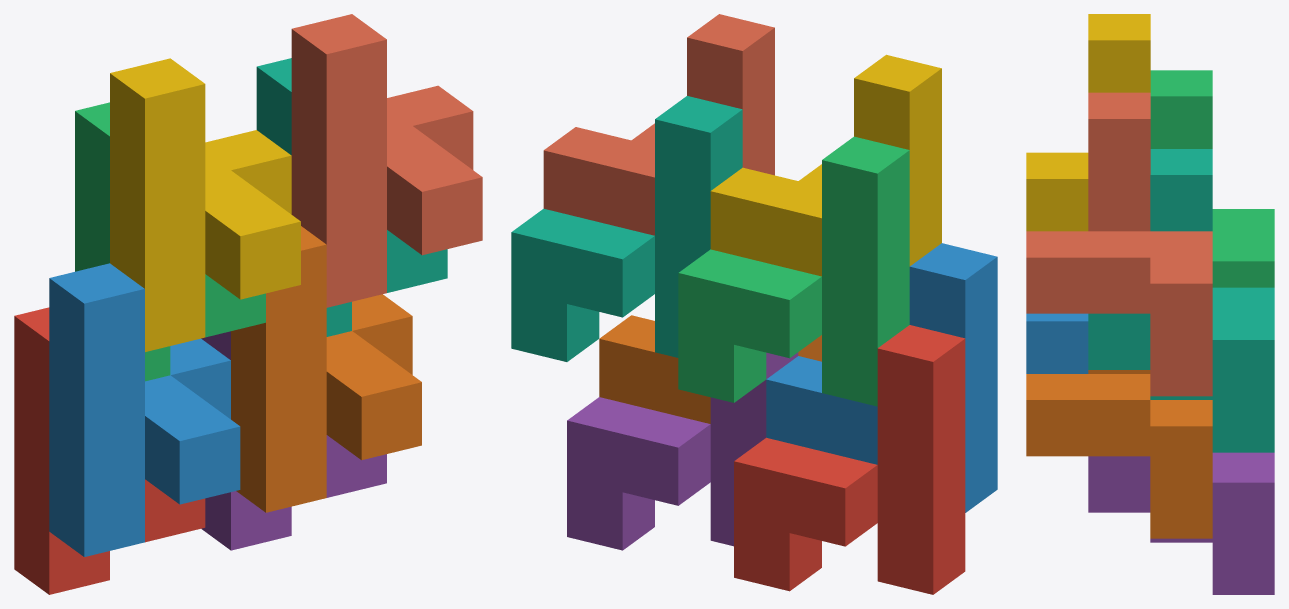
The model's file is tiling.obj.
The picture shows the model from 3 angles, left to right: view 1: azimuth 30°, elevation 25°; view 2: azimuth 150°, elevation 25°; view 3: azimuth 270°, elevation 25°; orthographic projection. The views are drawn at different scales.
Visible parts, largest first — view 1: copy_1_domain_2, copy_1_domain_8, copy_1_domain_4, copy_1_domain_6, copy_1_domain_1, copy_1_domain_3, copy_1_domain_5, copy_1_domain_7; view 2: copy_1_domain_1, copy_1_domain_3, copy_1_domain_7, copy_1_domain_5, copy_1_domain_4, copy_1_domain_2, copy_1_domain_8, copy_1_domain_6; view 3: copy_1_domain_8, copy_1_domain_7, copy_1_domain_6, copy_1_domain_5, copy_1_domain_4, copy_1_domain_3, copy_1_domain_2.
Part boxes in pixels (x1,y1,x2,y2): copy_1_domain_2: (49, 263, 240, 556); copy_1_domain_8: (291, 14, 482, 307); copy_1_domain_4: (110, 58, 300, 351); copy_1_domain_6: (231, 226, 421, 512); copy_1_domain_1: (14, 307, 205, 594); copy_1_domain_3: (75, 102, 265, 381); copy_1_domain_5: (201, 331, 386, 550); copy_1_domain_7: (256, 58, 447, 336); copy_1_domain_1: (734, 325, 965, 594); copy_1_domain_3: (678, 136, 909, 406); copy_1_domain_7: (511, 96, 742, 361); copy_1_domain_5: (567, 352, 798, 550); copy_1_domain_4: (710, 54, 941, 276); copy_1_domain_2: (766, 243, 997, 512); copy_1_domain_8: (543, 14, 774, 235); copy_1_domain_6: (599, 315, 821, 423); copy_1_domain_8: (1026, 92, 1212, 396); copy_1_domain_7: (1088, 149, 1274, 452); copy_1_domain_6: (1026, 370, 1212, 538); copy_1_domain_5: (1088, 452, 1274, 594); copy_1_domain_4: (1026, 14, 1150, 231); copy_1_domain_3: (1150, 70, 1274, 287); copy_1_domain_2: (1026, 313, 1088, 373).
Size of the model in its own units: 7 by 8 by 4.
